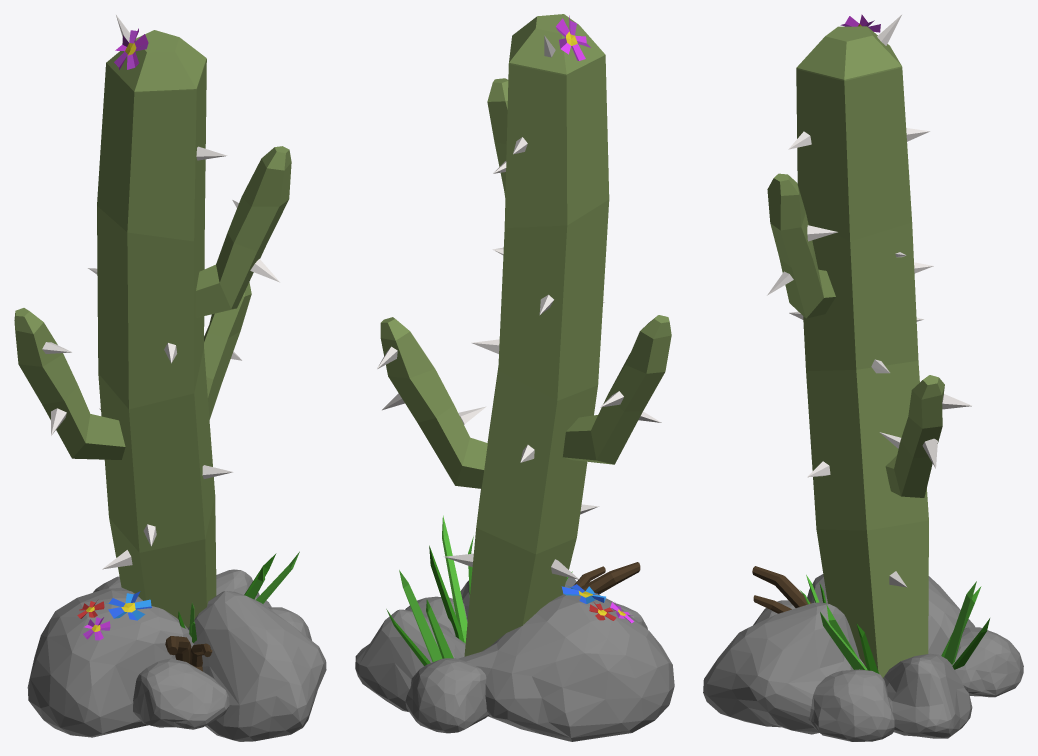
The model's file is cactus1.gltf.
The picture shows the model from 3 angles, left to right: view 1: azimuth 30°, elevation 25°; view 2: azimuth 150°, elevation 25°; view 3: azimuth 270°, elevation 25°; orthographic projection. The views are drawn at different scales.
Visible parts, largest first — view 1: cactus3, pierre, pierre3, pierre5, herbe, pierre1, fleur, fleur1, branche; view 2: cactus3, pierre, pierre4, pierre1, herbe, herbe1, branche, fleur, pierre2; view 3: cactus3, pierre3, pierre1, pierre2, pierre4, pierre, herbe1, herbe, branche.
Part boxes in pixels (x1,y1,x2,y2): cactus3: (14, 15, 291, 628); pierre: (27, 587, 193, 737); pierre3: (188, 591, 326, 741); pierre5: (133, 658, 229, 729); herbe: (244, 551, 299, 603); pierre1: (216, 569, 271, 607); fleur: (114, 28, 148, 69); fleur1: (106, 591, 151, 620); branche: (165, 636, 191, 663); cactus3: (377, 14, 671, 656); pierre: (458, 593, 674, 741); pierre4: (405, 658, 489, 733); pierre1: (355, 609, 465, 711); herbe: (429, 515, 473, 643); herbe1: (386, 570, 453, 665); branche: (581, 562, 640, 594); fleur: (556, 15, 590, 60); pierre2: (405, 596, 466, 635); cactus3: (767, 15, 971, 677); pierre3: (703, 602, 865, 734); pierre1: (883, 653, 972, 738); pierre2: (808, 669, 894, 741); pierre4: (952, 627, 1023, 697); pierre: (807, 574, 974, 655); herbe1: (941, 581, 989, 669); herbe: (820, 605, 879, 673); branche: (752, 566, 811, 607).
Size of the model in its own units: 1.61 by 3.69 by 1.61.
Materials: 30 (30 with a texture image).
